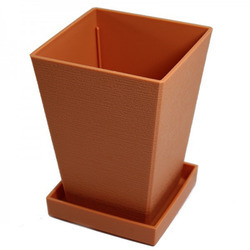tire: (30, 6, 217, 248)
